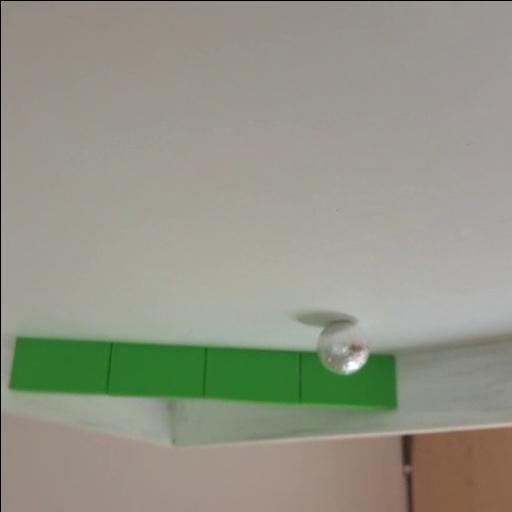alive: (316, 320, 368, 374)
